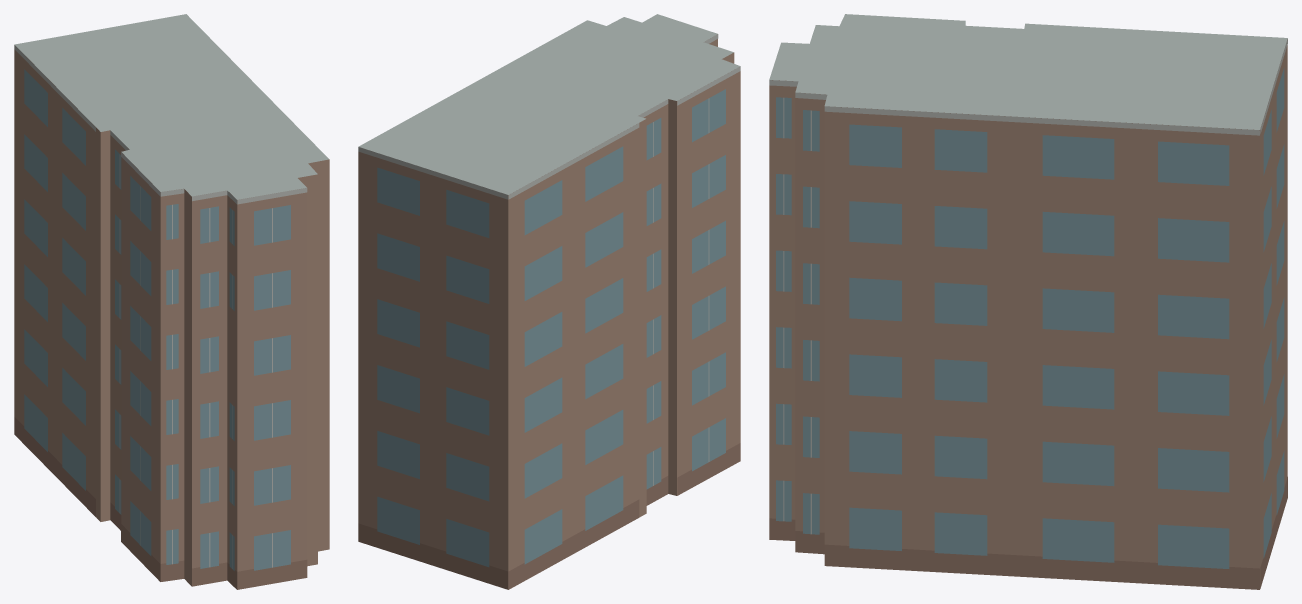
Rendered from survey-upis-32567406.glb.
The picture shows the model from 3 angles, left to right: view 1: azimuth 30°, elevation 25°; view 2: azimuth 150°, elevation 25°; view 3: azimuth 270°, elevation 25°; orthographic projection. The views are drawn at different scales.
Parts seen in each view (by area): view 1: survey-upis-32567406.tmp; view 2: survey-upis-32567406.tmp; view 3: survey-upis-32567406.tmp.
Part boxes in pixels (x1=…): survey-upis-32567406.tmp: x1=14, y1=14, x2=329, y2=589; survey-upis-32567406.tmp: x1=358, y1=14, x2=740, y2=589; survey-upis-32567406.tmp: x1=769, y1=14, x2=1287, y2=589.
Size of the model in its own units: 11 by 20.3 by 20.76.
